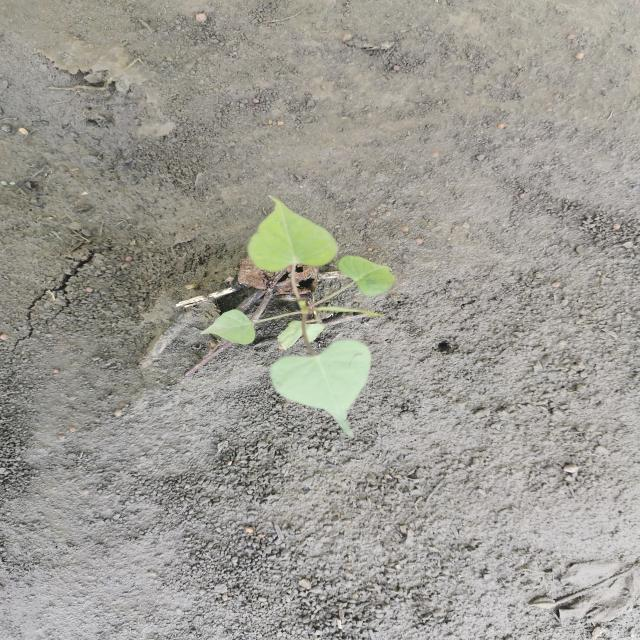MorningGlory: (196, 192, 402, 442)
